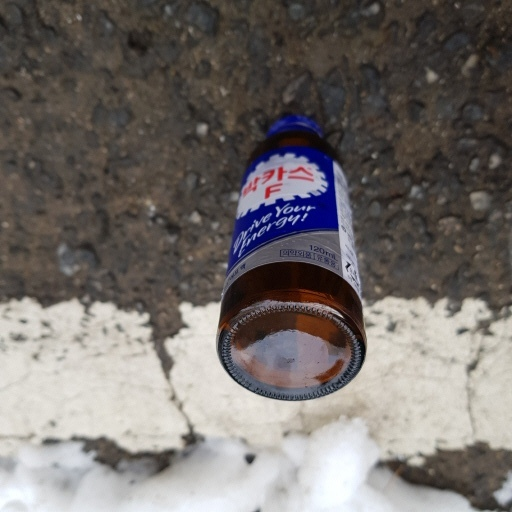Glass_3: (213, 113, 374, 401)
